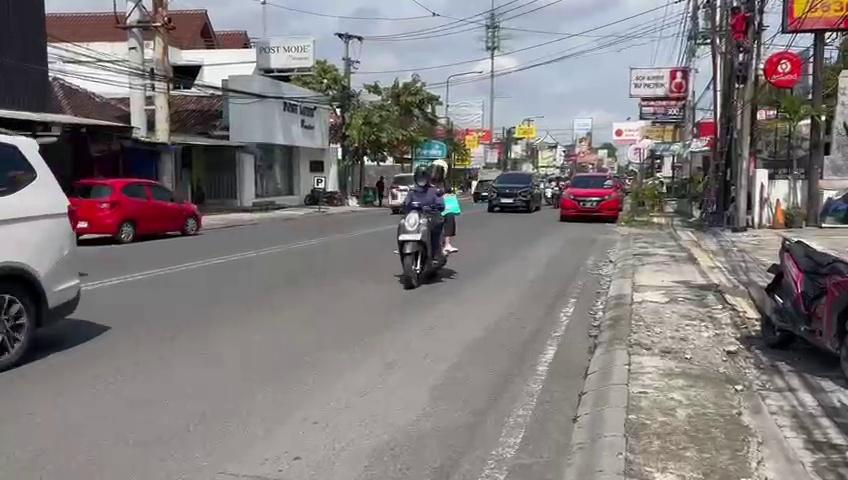helm: (413, 163, 433, 188), (429, 159, 449, 182)
riding: (391, 159, 462, 290)
